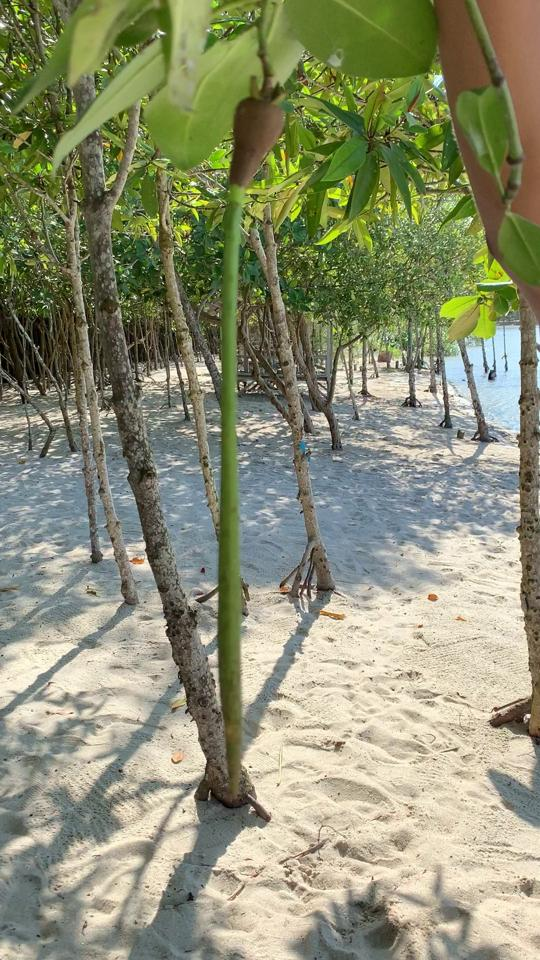setengah matang: (212, 56, 296, 810)
